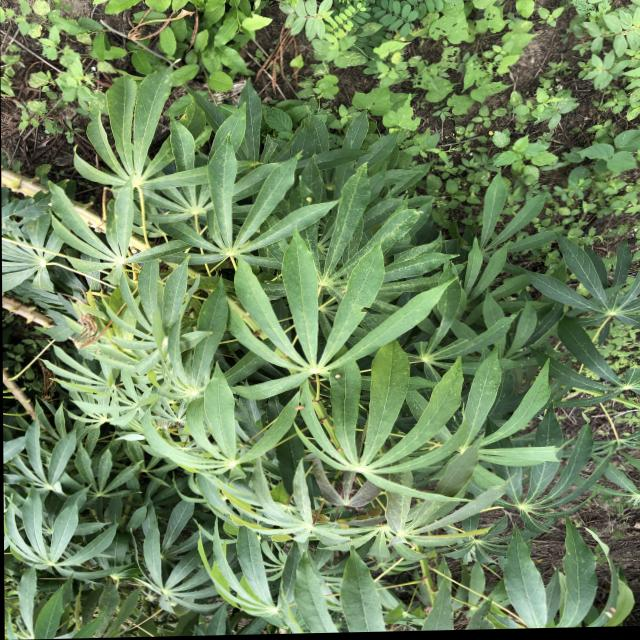Maleza: (307, 1, 574, 106), (512, 0, 638, 216), (0, 0, 266, 72)
Mosca: (281, 395, 311, 417), (329, 368, 347, 391), (298, 187, 318, 207)
